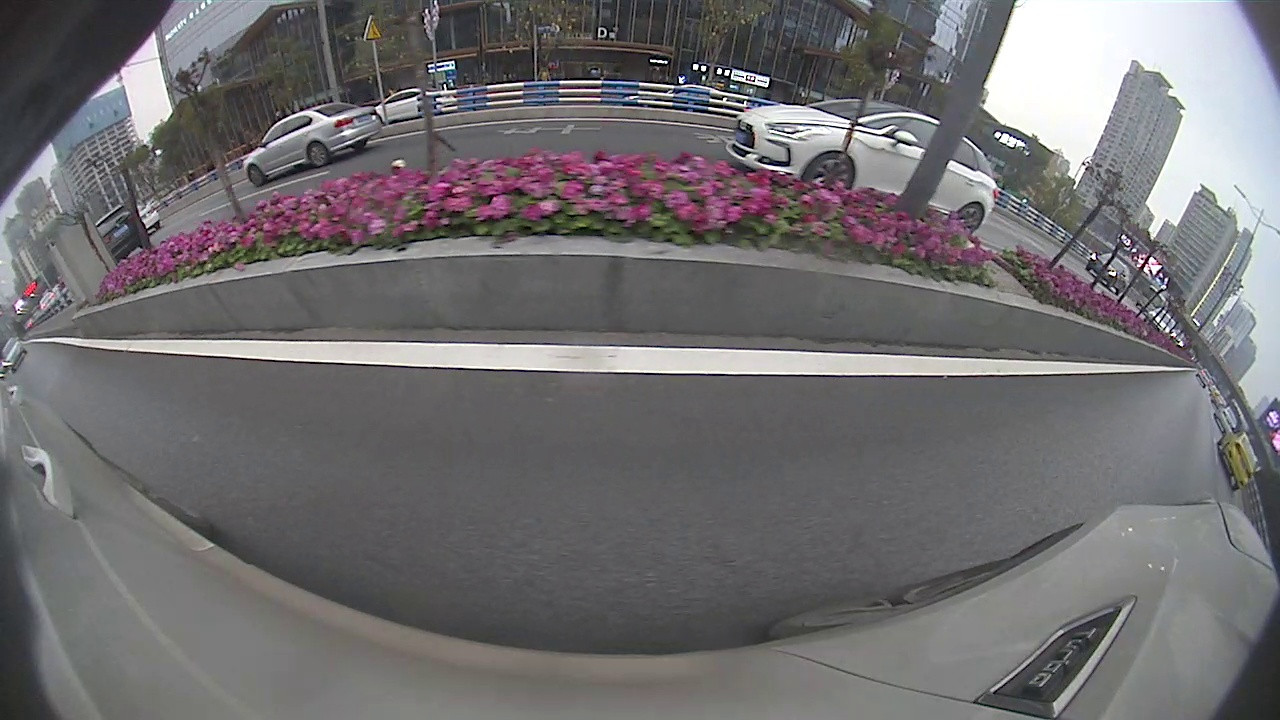car: (726, 97, 1001, 229), (1216, 429, 1259, 492)
front: (805, 151, 856, 190), (247, 162, 270, 188)
rear: (955, 202, 990, 229), (305, 140, 334, 169)
